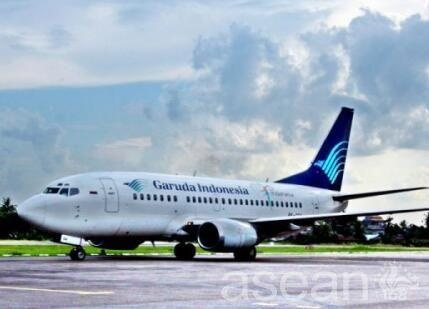airplane: (15, 104, 423, 258)
